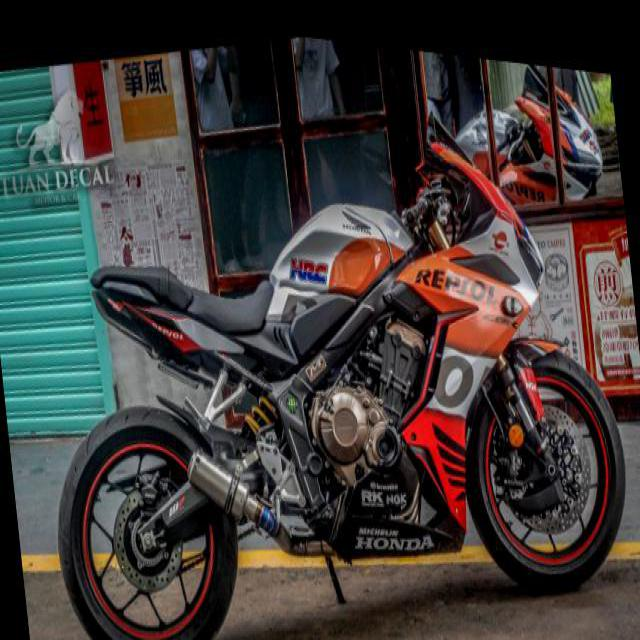CBR650R: (15, 16, 639, 639)
